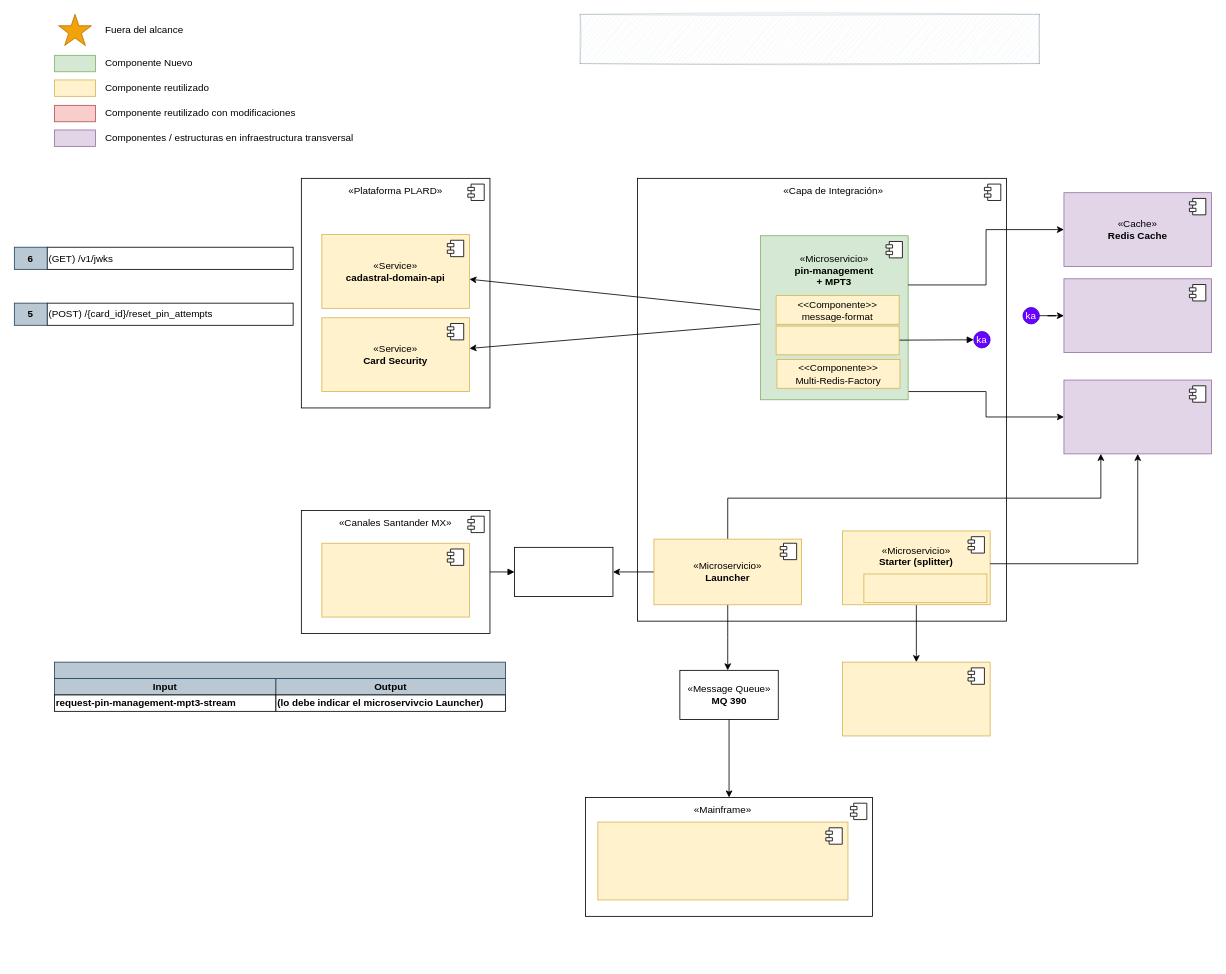
Some shapes in this 1226 by 974 pixel diagram are drawn without their labels. Here are the shapes that lost their labels. From the top down, the centre of each, then its label:
(809,39): pin-management
(1137,315): «Log component» Kafka Cluster
(837,340): <<Componente>> kafka-message-logging
(1137,416): «Event component» Redis Streams
(395,579): «Plataforma Altair» Terminal Financiero CENTEL SuperMovil IVR FMP
(563,572): «Message Queue» MQ Open
(925,588): <<Componente>> CardPlaceLocatorLibrary
(280,670): Redis Stream
(916,698): «Microservicio» CardPlaceLocator
(722,860): «PAMPA» MPT3 (MOD. Nº INTENTOS DE PIN)
